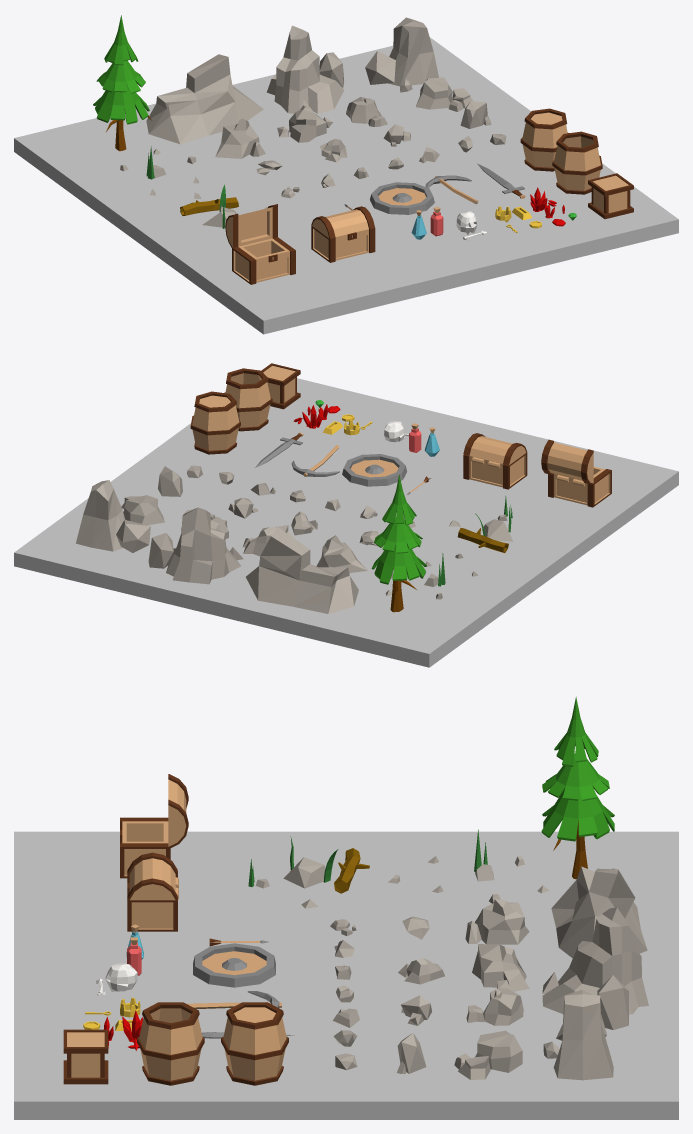
The model's file is Treasures.fbx.
3 views of the same model, one above another, from view 1: azimuth 30°, elevation 25°; view 2: azimuth 150°, elevation 25°; view 3: azimuth 270°, elevation 25° (orthographic). The views are drawn at different scales.
Visible parts, largest first — view 1: Ground, Stone_1, Stone_2, Tree_Fir, Stone_3, Chest_Closed, Barrel_Open, Chest_Open, Barrel_Closed, Shield, Chest_Open_Cap, Box (+7 smaller); view 2: Ground, Stone_1, Stone_2, Tree_Fir, Stone_3, Chest_Closed, Barrel_Closed, Barrel_Open, Shield, Chest_Open_Cap, Chest_Open, Rocks_and_grass_2 (+5 smaller); view 3: Ground, Stone_2, Tree_Fir, Stone_1, Barrel_Closed, Barrel_Open, Stone_3, Chest_Closed, Shield, Box, Rocks_and_grass_2, Stone_7 (+10 smaller).
Part boxes in pixels (x1,y1,x2,y2): Ground: (14, 37, 678, 334); Stone_1: (146, 54, 263, 144); Stone_2: (266, 25, 344, 113); Tree_Fir: (93, 15, 151, 151); Stone_3: (365, 17, 438, 92); Chest_Closed: (311, 206, 375, 262); Barrel_Open: (552, 131, 602, 194); Chest_Open: (232, 237, 295, 284); Barrel_Closed: (520, 108, 568, 171); Shield: (370, 182, 434, 214); Chest_Open_Cap: (225, 204, 277, 247); Box: (588, 173, 633, 219); Ground: (14, 378, 678, 667); Stone_1: (246, 527, 358, 613); Stone_2: (148, 507, 243, 584); Tree_Fir: (371, 474, 426, 612); Stone_3: (76, 480, 150, 552); Chest_Closed: (463, 433, 527, 489); Barrel_Closed: (190, 391, 240, 454); Barrel_Open: (224, 368, 272, 431); Shield: (342, 454, 407, 486); Chest_Open_Cap: (541, 439, 593, 484); Chest_Open: (548, 466, 611, 507); Rocks_and_grass_2: (449, 496, 513, 558); Ground: (14, 831, 678, 1119); Stone_2: (542, 907, 648, 1029); Tree_Fir: (541, 696, 614, 879); Stone_1: (551, 866, 647, 958); Barrel_Closed: (221, 1002, 288, 1085); Barrel_Open: (137, 1002, 204, 1085); Stone_3: (543, 990, 613, 1080); Chest_Closed: (127, 852, 178, 931); Shield: (193, 943, 275, 987); Box: (63, 1029, 108, 1084); Rocks_and_grass_2: (248, 836, 400, 908); Stone_7: (454, 1030, 522, 1079).
Bounding box in the file's own units: 2182 × 747 × 2270.
